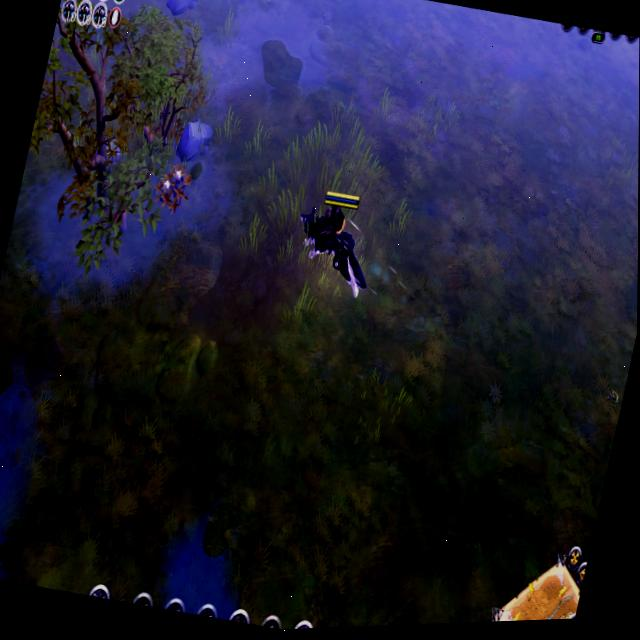hide: (147, 148, 197, 224)
wisp caged: (276, 180, 391, 308)
